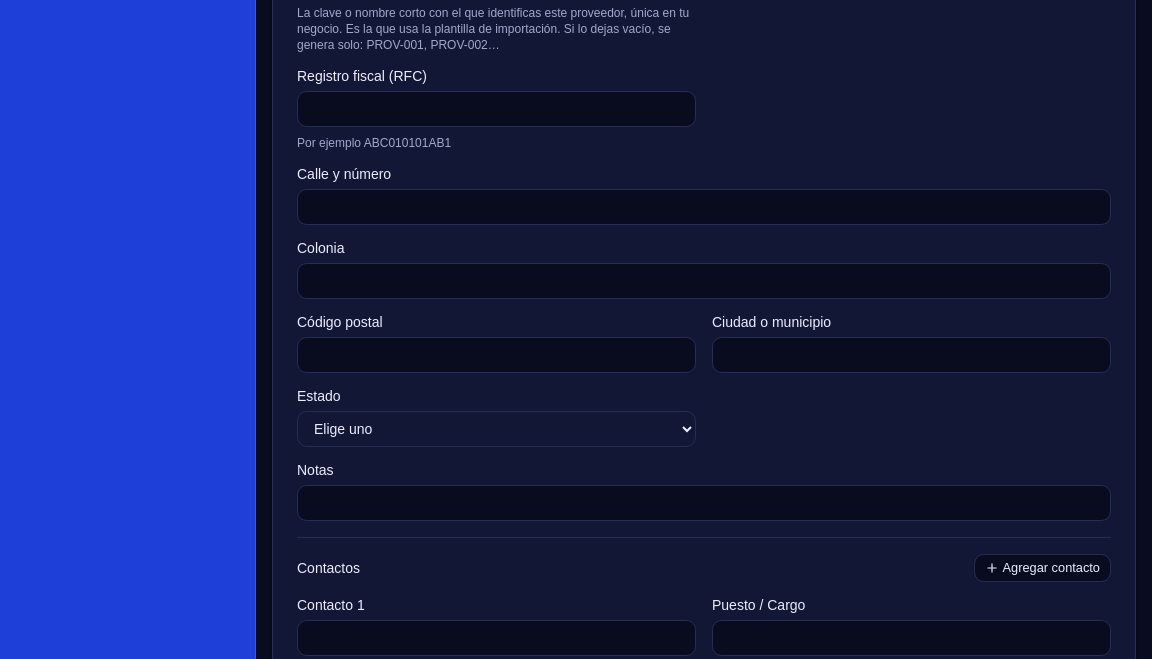
Scenario: dirección y contactos del proveedor (2026-10-31) › «Agregar contacto» suma un Contacto 2 y luego un 3, con el cursor en su nombre
(page scrolled)
Expected: the field labelled "Contacto 1" is shown, x1=297 y1=620 x2=696 y2=656
Expected: the field labelled "Contacto 2" is not shown
Click the button "Agregar contacto": point(1042, 568) x1=974 y1=554 x2=1111 y2=582
(page scrolled)
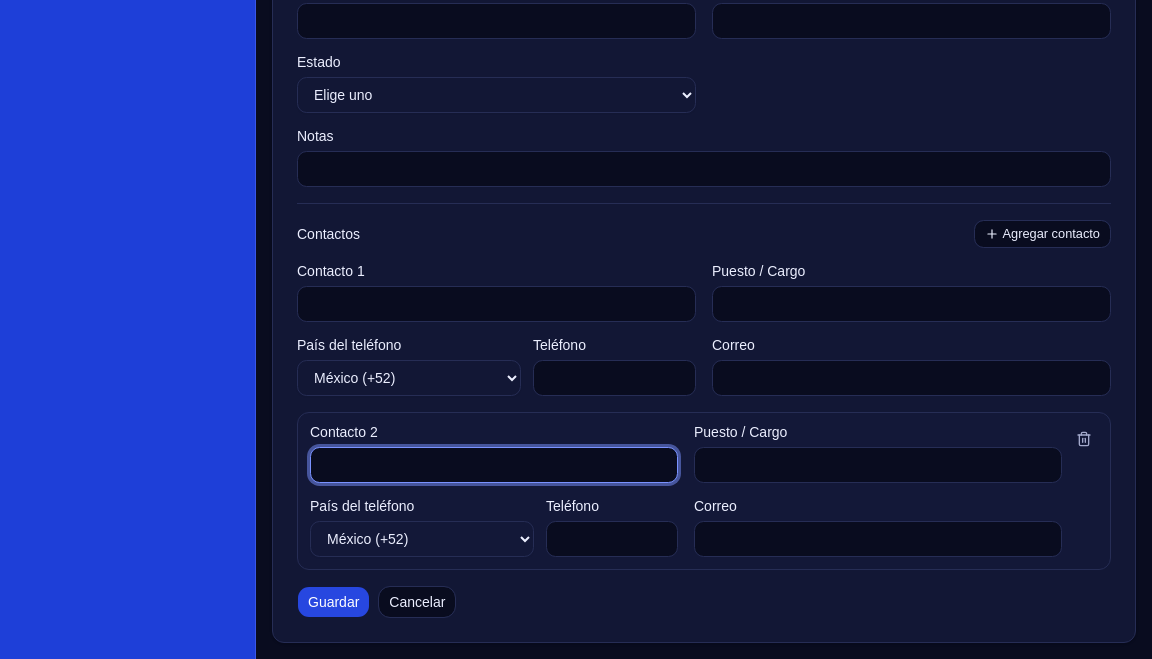
Click the button "Agregar contacto": point(1042, 234) x1=974 y1=220 x2=1111 y2=248
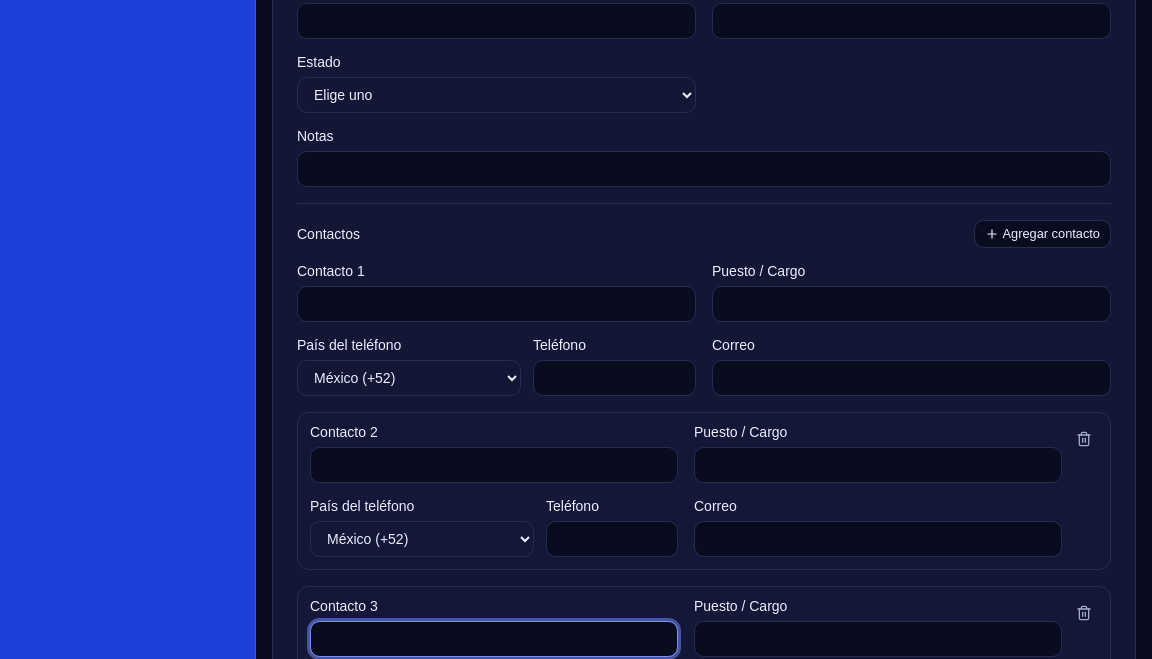
Expected: the number of fields labelled "Puesto / Cargo" is 3, x1=712 y1=286 x2=1111 y2=322; x1=694 y1=447 x2=1062 y2=483; x1=694 y1=621 x2=1062 y2=657
Now the button named "Quitar contacto 3" is shown, box x1=1070 y1=599 x2=1098 y2=627
